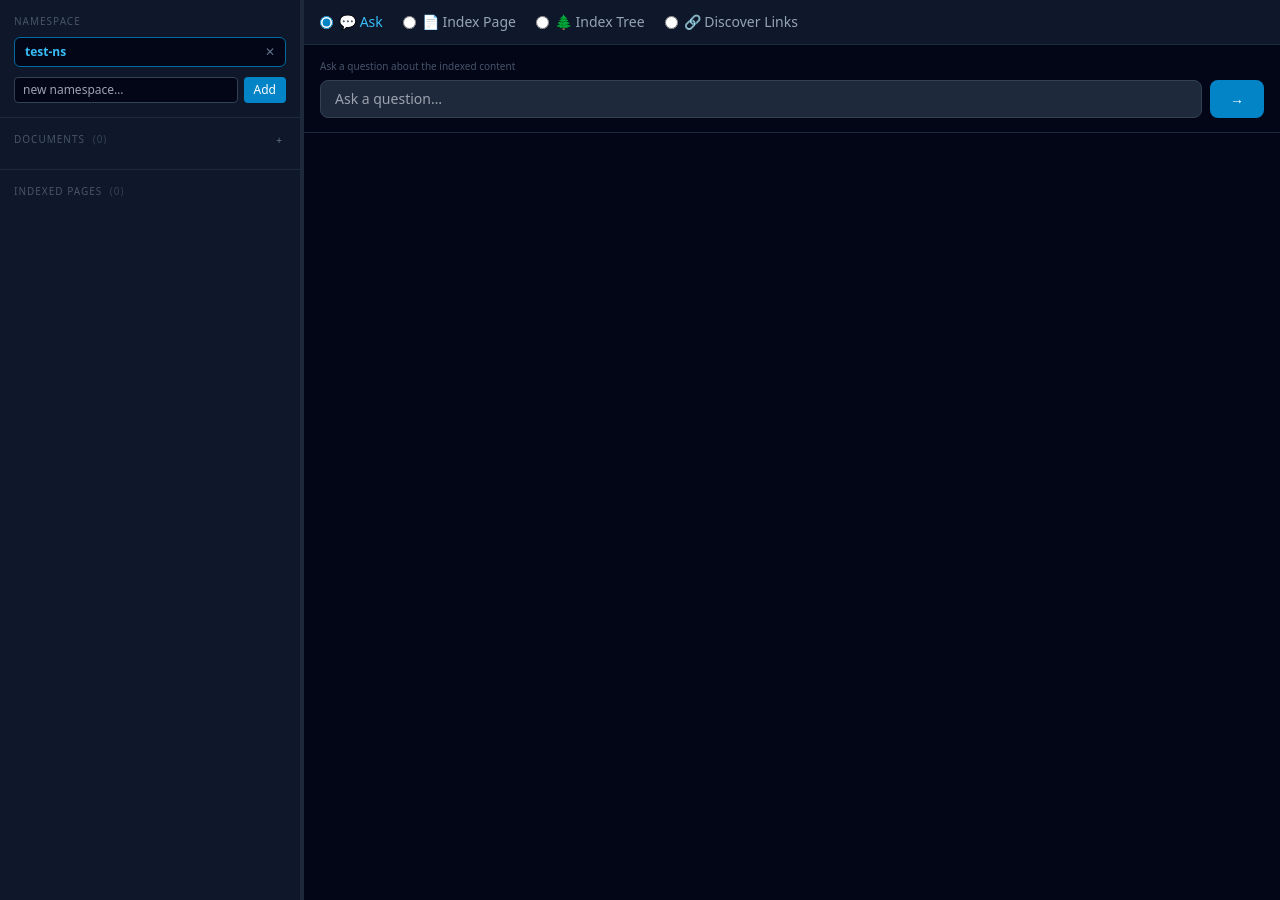
it: App › keeps the previous Ask answer expanded when a new request fails
Check: the text "test-ns" is shown, box x1=25 y1=43 x2=66 y2=60
Type "first question" into the field with placeholder "Ask a question…".
click(761, 99); type("first question")  # box x1=320 y1=80 x2=1202 y2=118
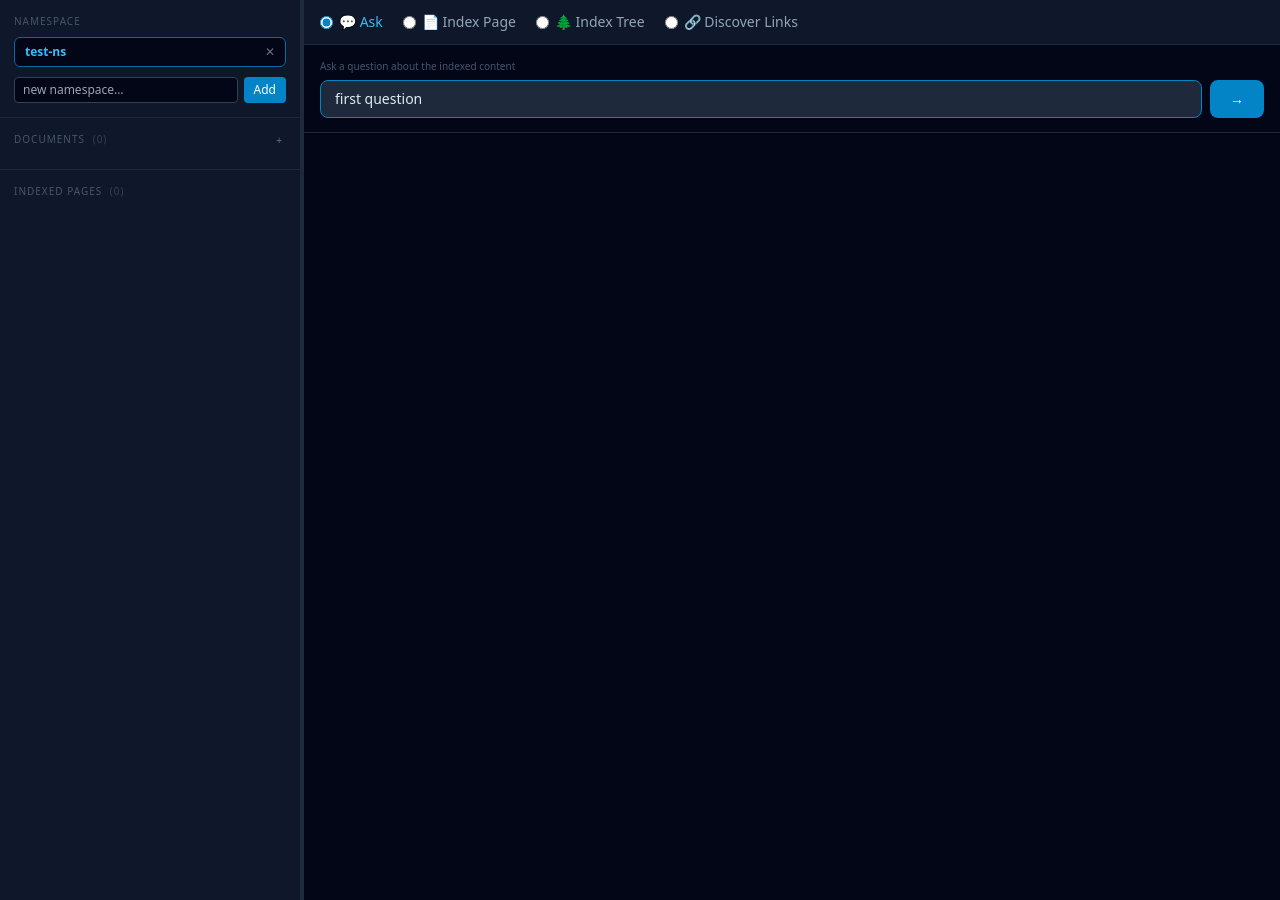
Click the button named "Ask".
click(1237, 99)  # box x1=1210 y1=80 x2=1264 y2=118
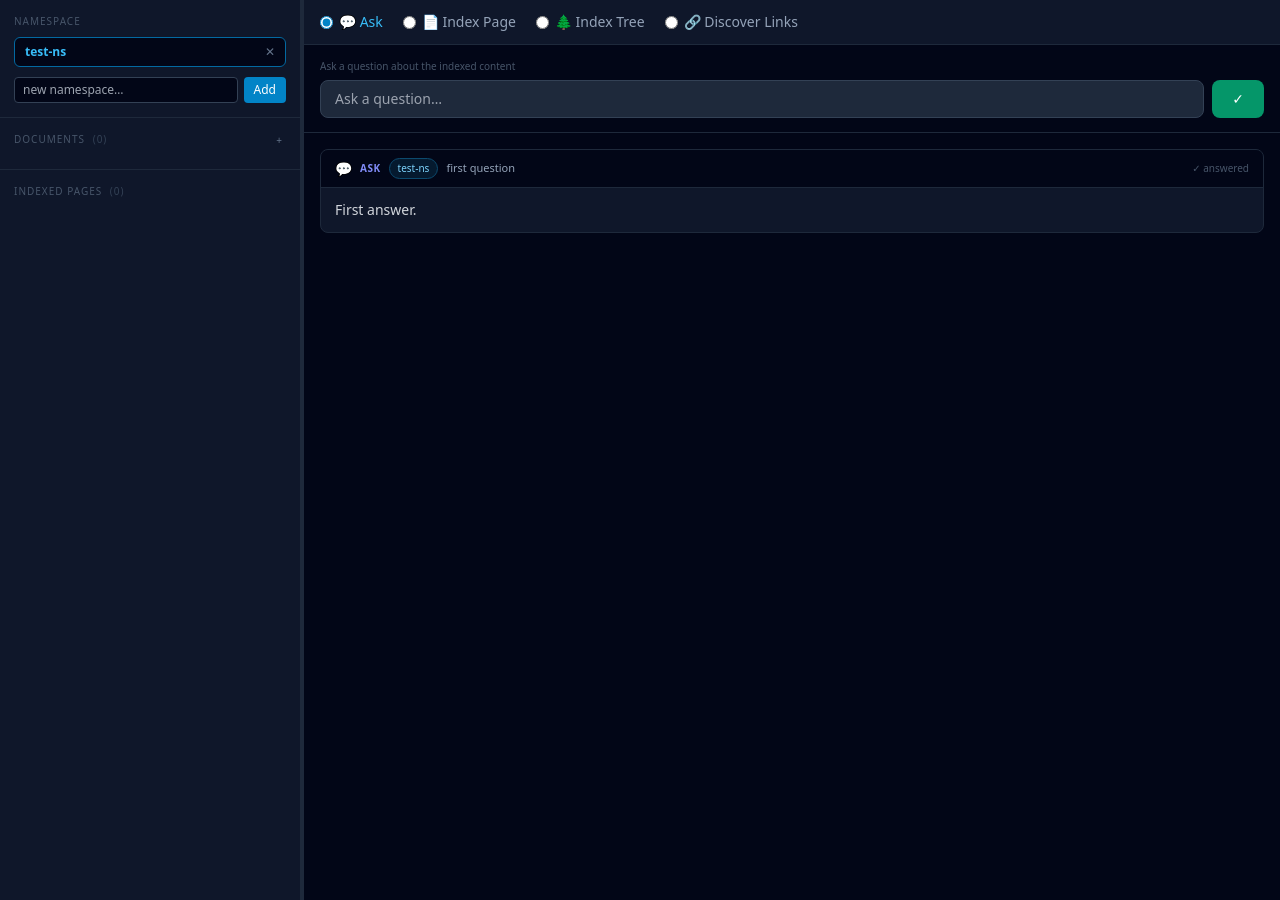
Check: the text "First answer." is shown, box x1=335 y1=200 x2=416 y2=219
Type "second question" into the field with placeholder "Ask a question…".
click(762, 99); type("second question")  # box x1=320 y1=80 x2=1204 y2=118
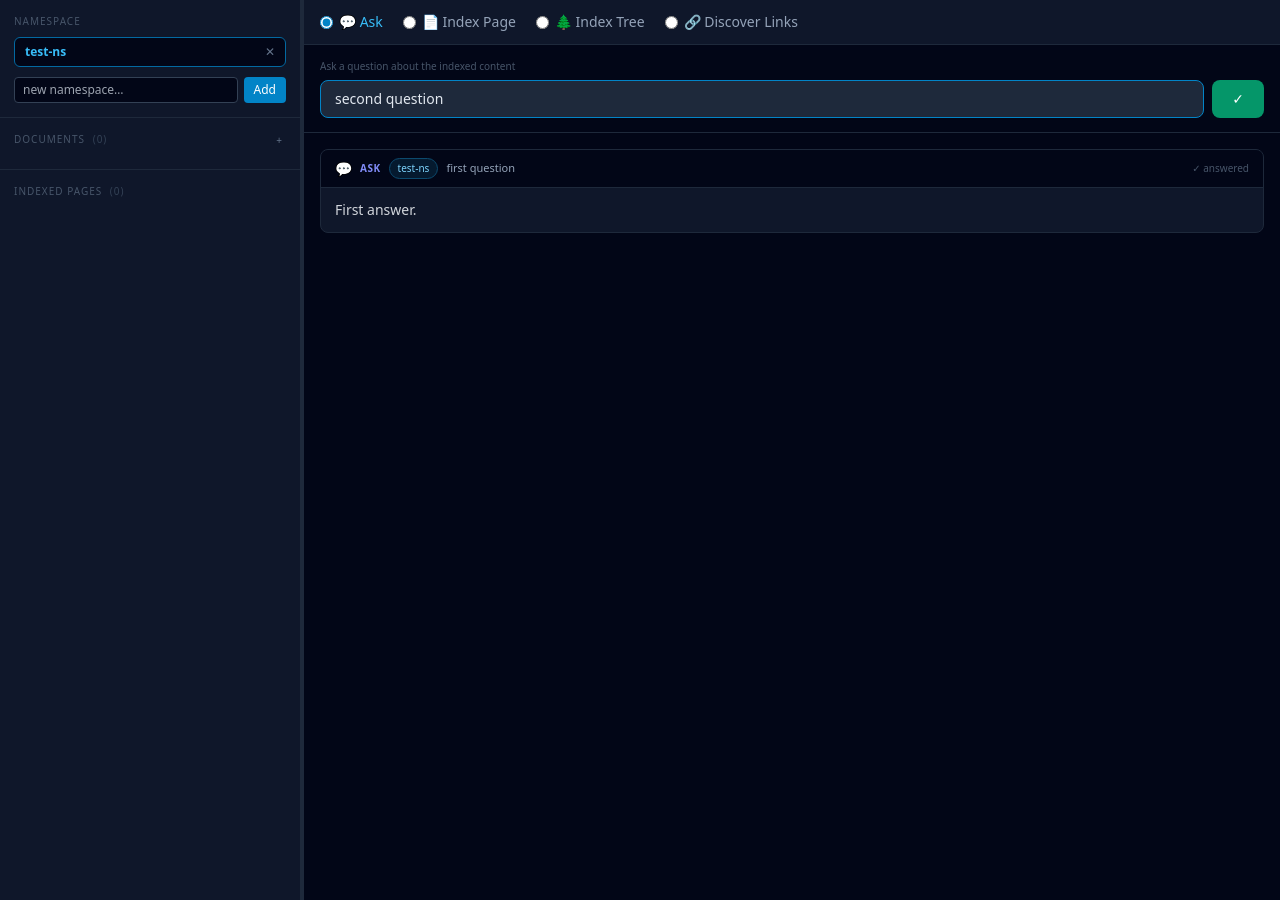
Click the button named "Ask".
click(1238, 99)  # box x1=1212 y1=80 x2=1264 y2=118
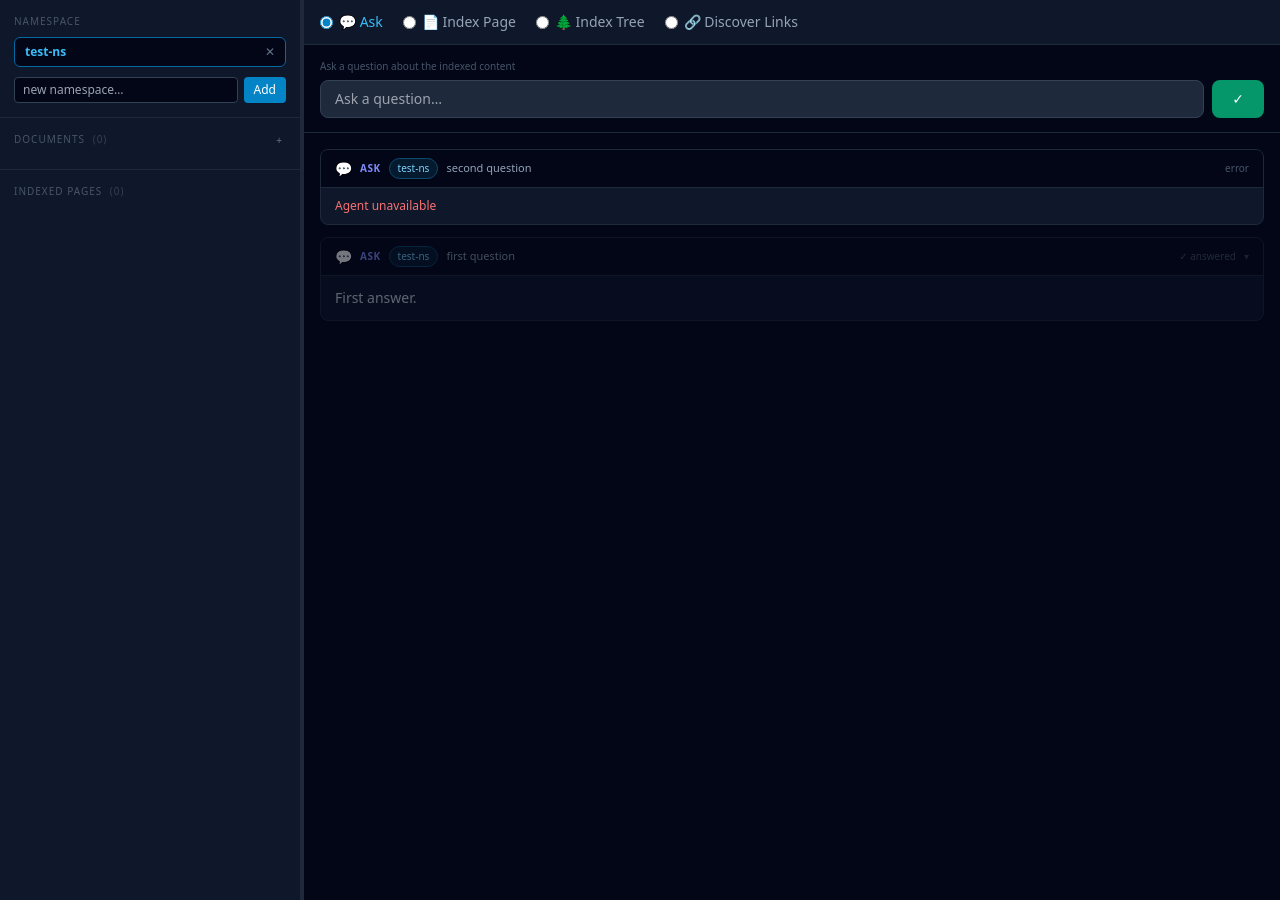
Check: the text "First answer." is shown, box x1=335 y1=288 x2=416 y2=307
Check: the text "Agent unavailable" is shown, box x1=335 y1=197 x2=436 y2=214
